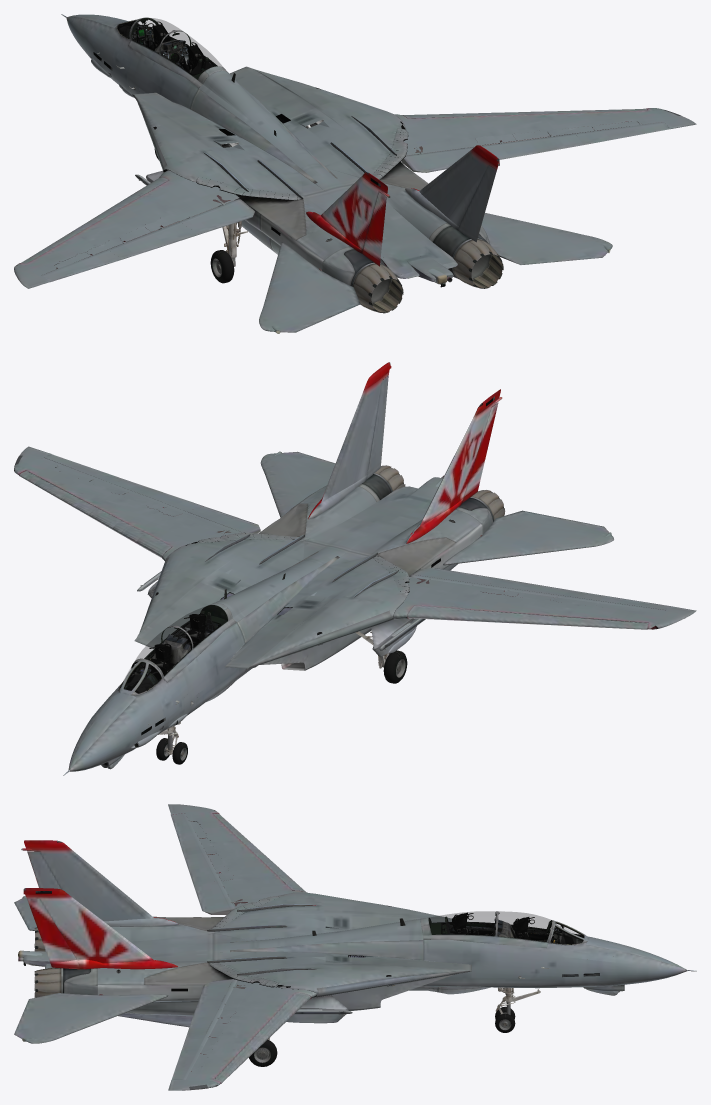
3 views of the same model, one above another, from view 1: azimuth 30°, elevation 25°; view 2: azimuth 150°, elevation 25°; view 3: azimuth 270°, elevation 25° (orthographic). The views are drawn at different scales.
Parts seen in each view (by area): view 1: Meshes2831_Material.001_0, Meshpart81_f14a-airframe_0, Meshpart33_Material07_0, Meshes2521_Cockpit08_0, Meshes2321_Material.002_0; view 2: Meshes2831_Material.001_0, Meshpart81_f14a-airframe_0, Meshes2521_Cockpit08_0, Meshpart33_Material07_0; view 3: Meshes2831_Material.001_0, Meshpart81_f14a-airframe_0, Meshes2321_Material.002_0, Meshes2521_Cockpit08_0, Meshpart33_Material07_0.
Boxes of the visible parts, bbox=[...] form: Meshes2831_Material.001_0: bbox=[14, 14, 696, 333]; Meshpart81_f14a-airframe_0: bbox=[138, 27, 247, 283]; Meshpart33_Material07_0: bbox=[93, 21, 380, 235]; Meshes2521_Cockpit08_0: bbox=[117, 17, 217, 79]; Meshes2321_Material.002_0: bbox=[138, 18, 222, 66]; Meshes2831_Material.001_0: bbox=[14, 362, 696, 775]; Meshpart81_f14a-airframe_0: bbox=[156, 631, 407, 764]; Meshes2521_Cockpit08_0: bbox=[120, 605, 227, 693]; Meshpart33_Material07_0: bbox=[141, 396, 494, 735]; Meshes2831_Material.001_0: bbox=[14, 804, 696, 1090]; Meshpart81_f14a-airframe_0: bbox=[249, 933, 540, 1066]; Meshes2321_Material.002_0: bbox=[430, 911, 579, 934]; Meshes2521_Cockpit08_0: bbox=[428, 911, 583, 944]; Meshpart33_Material07_0: bbox=[35, 891, 599, 991].
Bounding box in the file's own units: 84.74 × 22.69 × 85.06.
21 materials, 19 textured.
